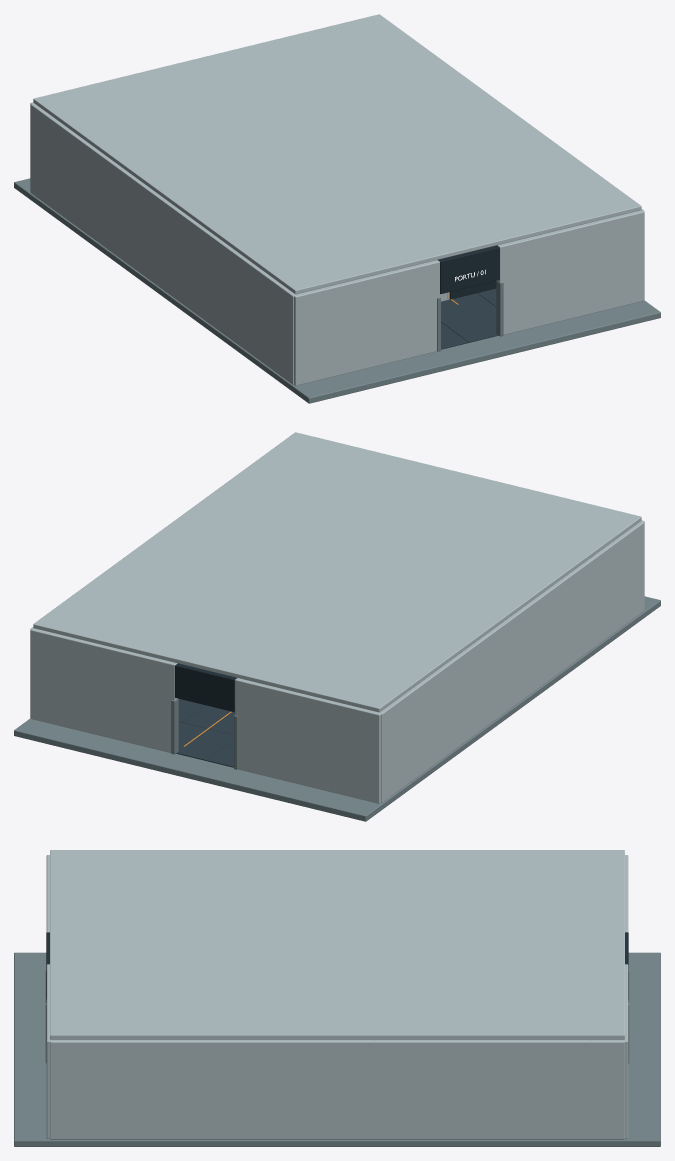
File: repair_drydock.glb
3 renders of one model, top to bottom at view 1: azimuth 30°, elevation 25°; view 2: azimuth 150°, elevation 25°; view 3: azimuth 270°, elevation 25°, orthographic. The views are drawn at different scales.
Parts seen in each view (by area): view 1: roof_cutaway_mesh, front_cutaway_mesh, structure_mesh, floor_tiles_mesh; view 2: roof_cutaway_mesh, structure_mesh, floor_tiles_mesh; view 3: roof_cutaway_mesh, structure_mesh, floor_tiles_mesh, front_cutaway_mesh.
Part boxes in pixels (x1=…): roof_cutaway_mesh: x1=33, y1=14, x2=641, y2=294; front_cutaway_mesh: x1=294, y1=210, x2=644, y2=385; structure_mesh: x1=30, y1=102, x2=644, y2=384; floor_tiles_mesh: x1=14, y1=178, x2=660, y2=403; roof_cutaway_mesh: x1=33, y1=432, x2=641, y2=712; structure_mesh: x1=30, y1=522, x2=644, y2=803; floor_tiles_mesh: x1=14, y1=596, x2=660, y2=821; roof_cutaway_mesh: x1=50, y1=850, x2=624, y2=1039; structure_mesh: x1=50, y1=855, x2=629, y2=1139; floor_tiles_mesh: x1=14, y1=952, x2=660, y2=1146; front_cutaway_mesh: x1=45, y1=855, x2=52, y2=1138.
Bounding box in the file's own units: 24.8 × 6.78 × 36.
